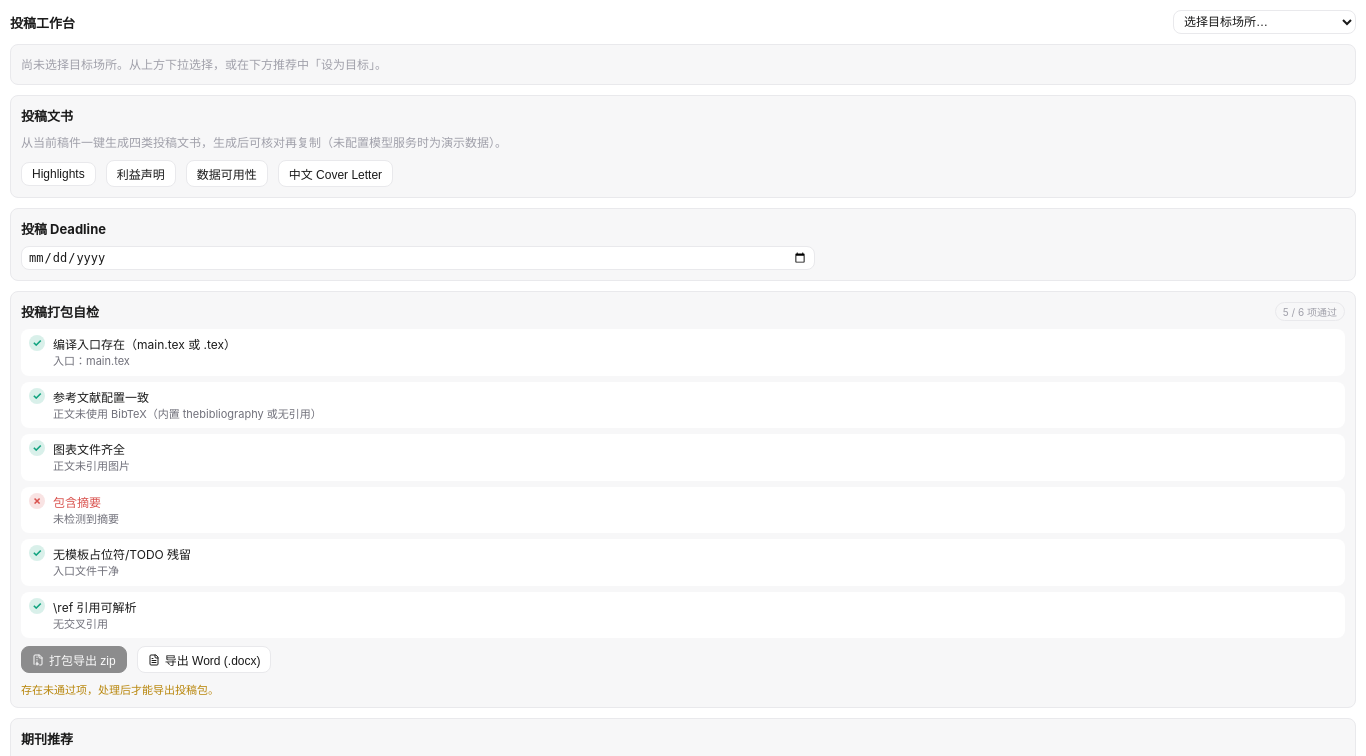
Test: SubmitPanel「导出 Word (.docx)」 › 失败时在自检卡片下方显示中文错误
Step 1. Click the button "导出 Word (.docx)" → point(204, 660), box [137,646,272,673]
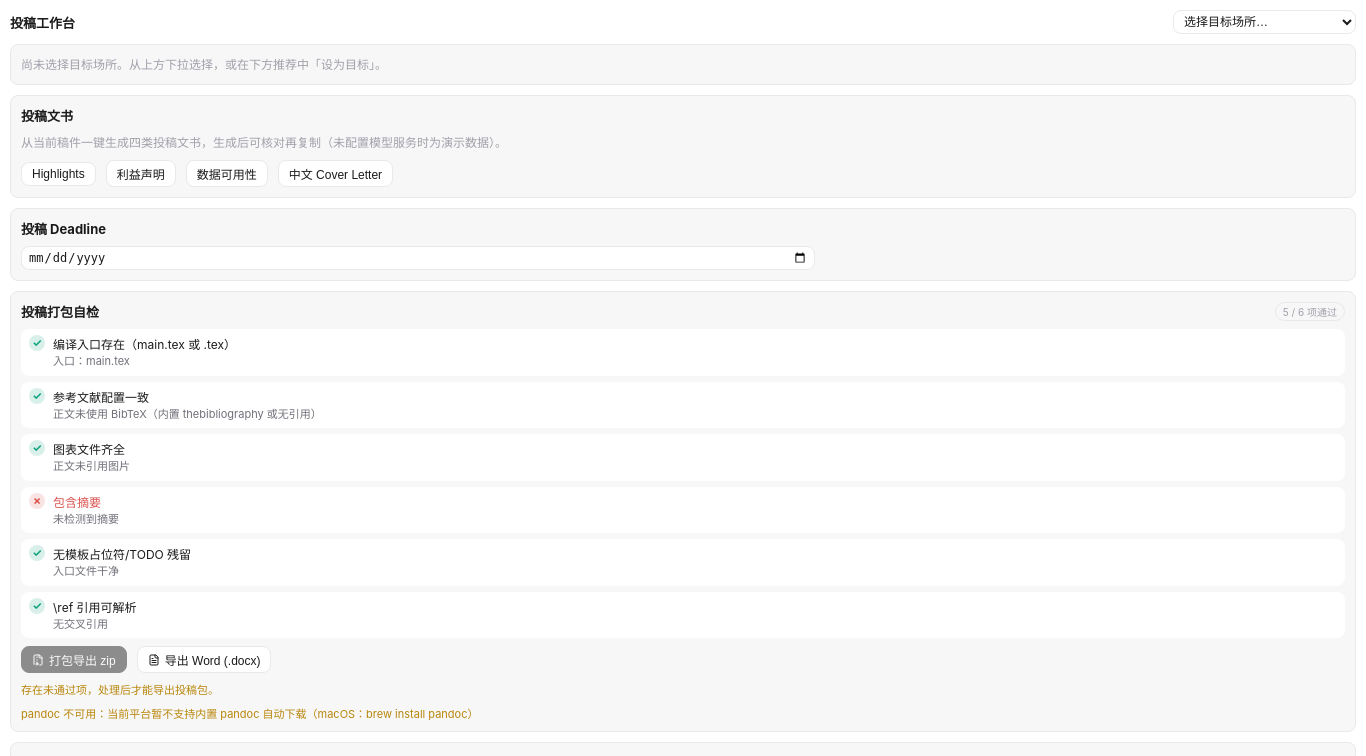
Check: the text "brew install pandoc" is shown, box [21,707,478,721]
